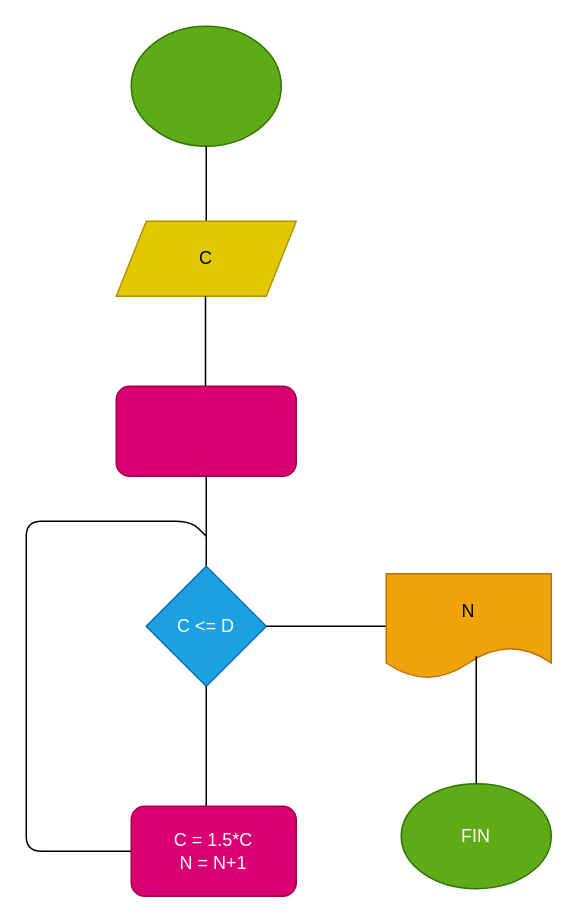
The diagram is 578 pixels wide and 923 high, and some of its shapes have lost their labels. Here are the shapes that lost their labels. From the top down, the centre of each, then its label:
[205,85]: INICIO
[205,430]: N=0 D=2*c
